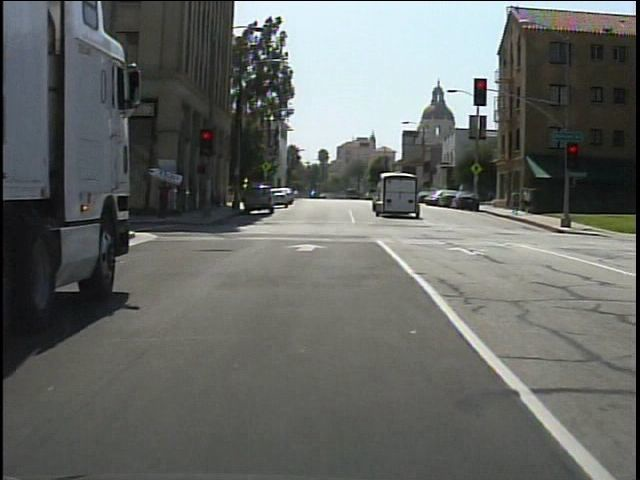person: (156, 177, 175, 218), (521, 187, 536, 216), (510, 186, 523, 218)
